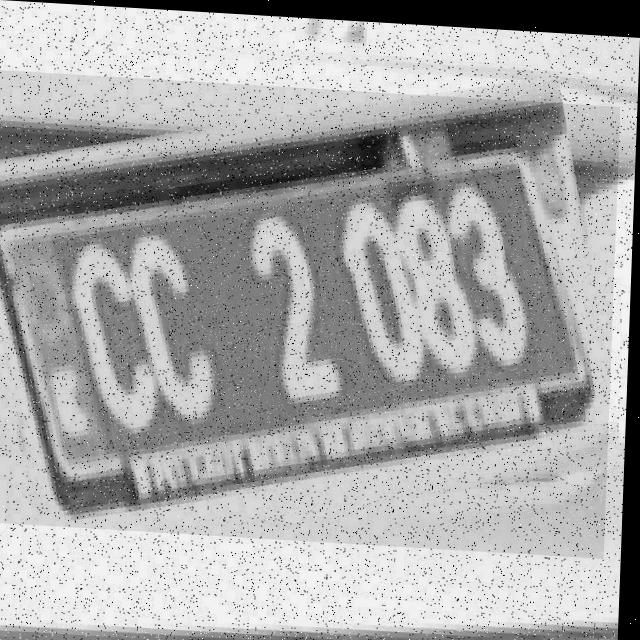LicensePlate: (0, 70, 621, 551)
